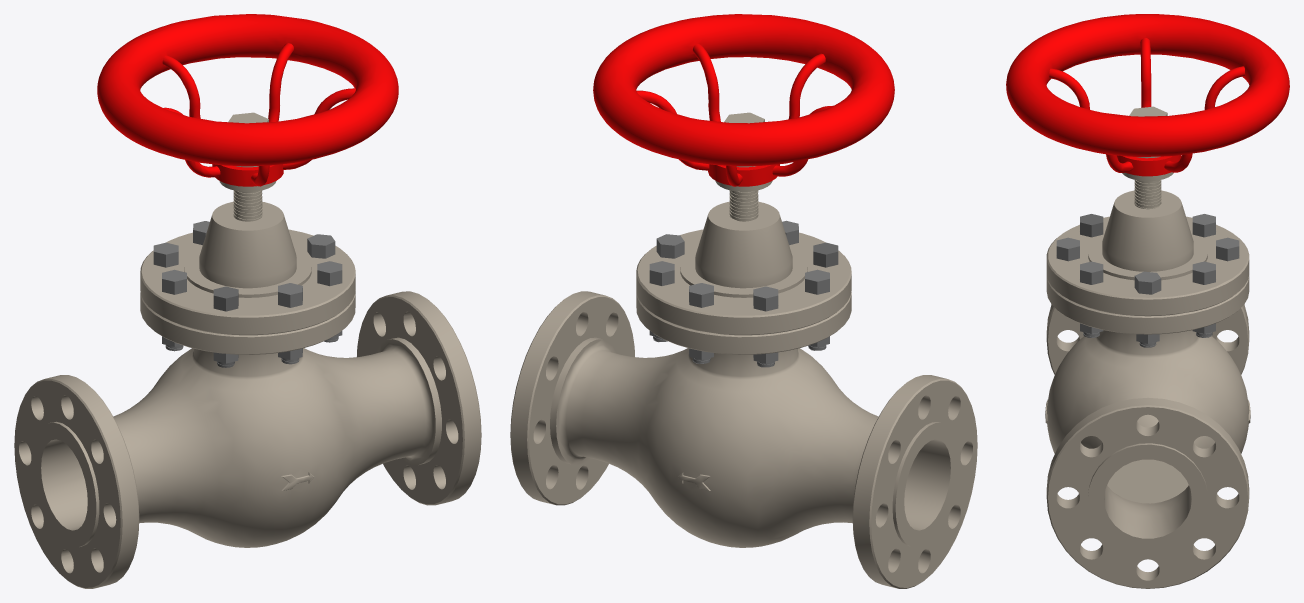
File: valve.glb
The picture shows the model from 3 angles, left to right: view 1: azimuth 30°, elevation 25°; view 2: azimuth 150°, elevation 25°; view 3: azimuth 270°, elevation 25°; orthographic projection. The views are drawn at different scales.
Visible parts, largest first — view 1: Object_2; view 2: Object_2; view 3: Object_2.
Boxes of the visible parts, left/top/right/bottom form: Object_2: left=14, top=14, right=481, bottom=588; Object_2: left=510, top=14, right=977, bottom=588; Object_2: left=1006, top=14, right=1289, bottom=588.
Bounding box in the file's own units: 0.3291 × 0.4002 × 0.2342.
1 material, 1 textured.
